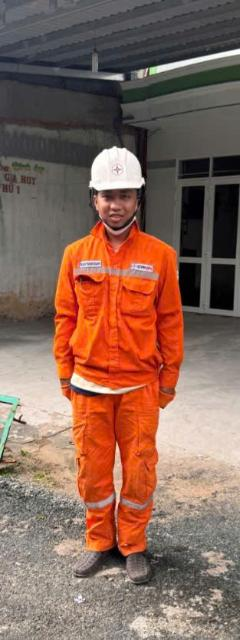gloves: (56, 367, 87, 414), (153, 374, 179, 409)
helmet: (70, 132, 153, 200)
shoes: (69, 522, 109, 586), (116, 541, 163, 585)
